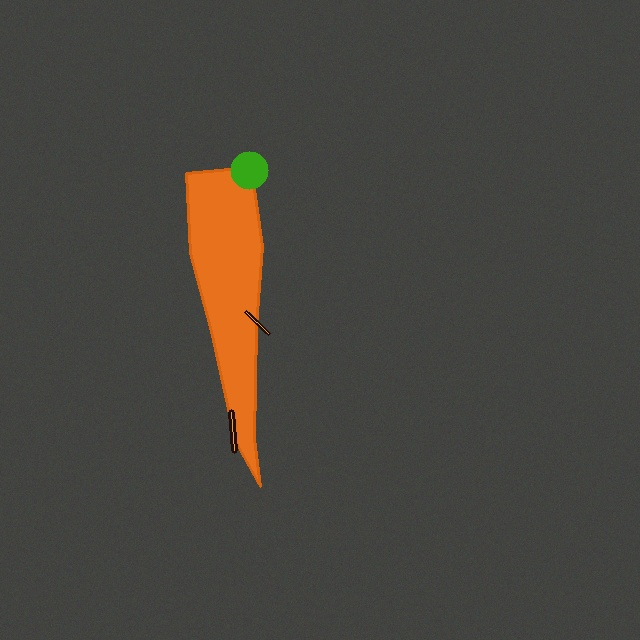Damaged_Carrot: (178, 159, 270, 494)
